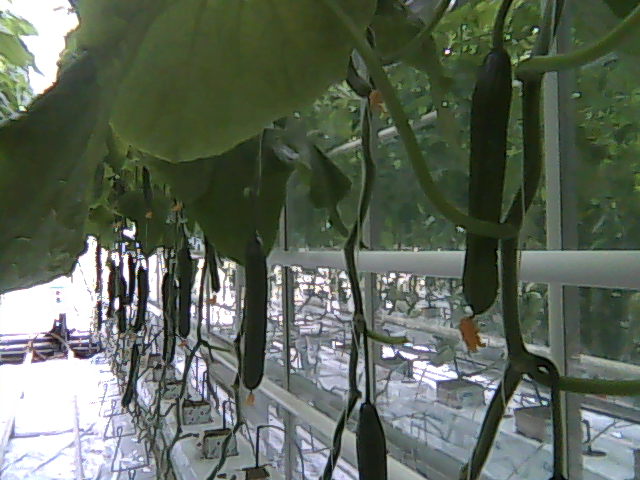concombre: (458, 41, 514, 358), (236, 229, 270, 407), (353, 401, 391, 480)
